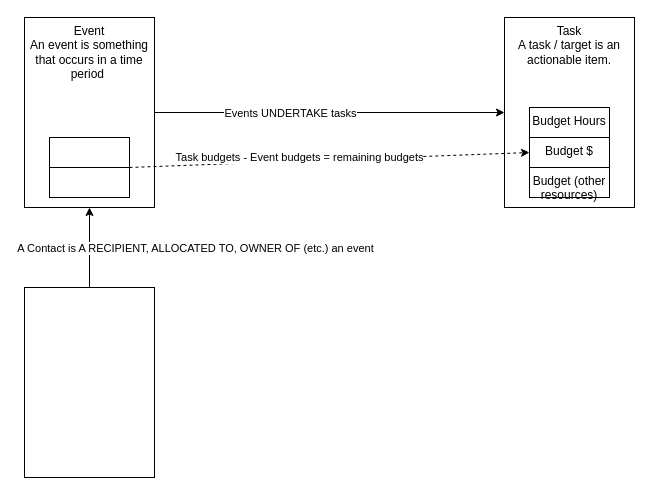
This 652x495 diagram has some shape labels left out. Each missing label, with the box of its shape:
Actual Hours: (48, 166, 130, 198)
Contact An individual or group: (24, 286, 154, 478)
Estimate Hours: (48, 136, 130, 168)
